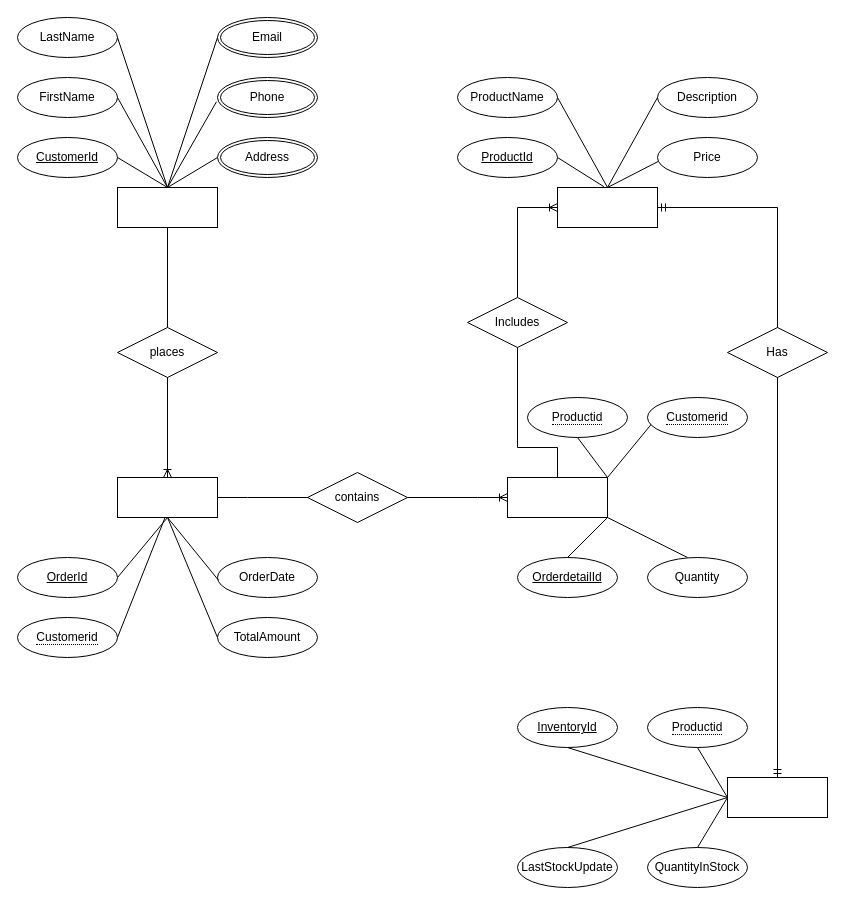
The diagram is 845 pixels wide and 905 high, and some of its shapes have lost their labels. Here are the shapes that lost their labels. From the top down, the centre of each, then its label:
point (167, 207): Customer
point (607, 207): Product
point (167, 497): Order
point (557, 497): Orderdetail
point (777, 797): Inventory
